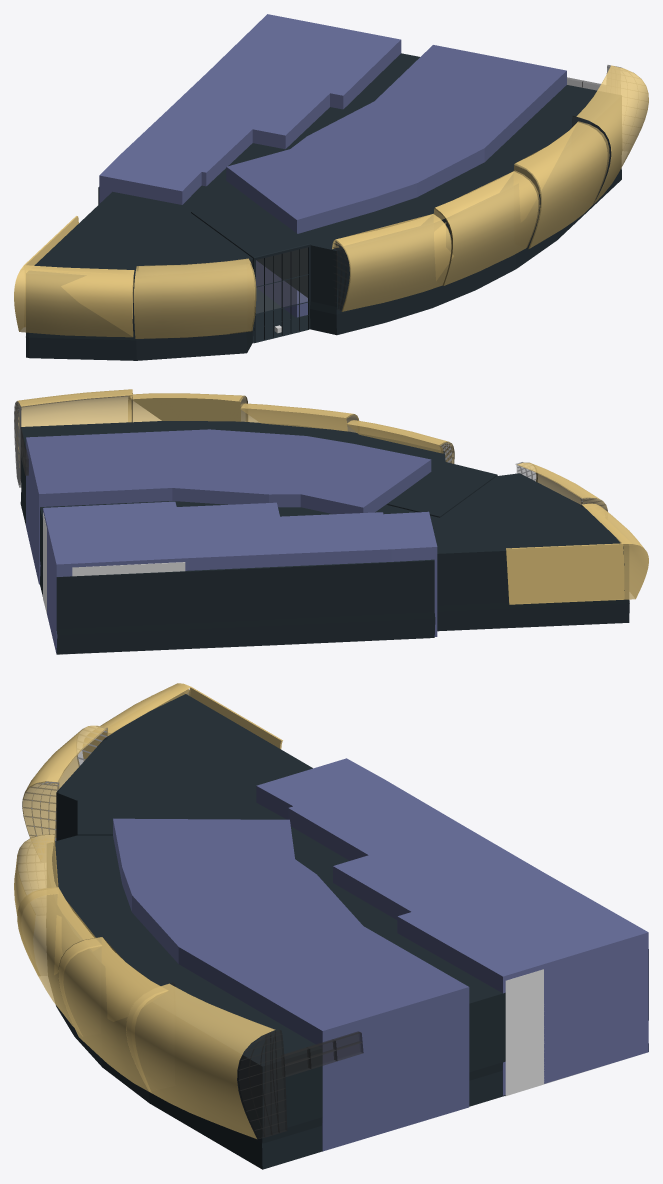
File: ashford-cinema-1.glb
The picture shows the model from 3 angles, top to bottom: view 1: azimuth 30°, elevation 25°; view 2: azimuth 150°, elevation 25°; view 3: azimuth 270°, elevation 25°; orthographic projection. The views are drawn at different scales.
Parts seen in each view (by area): view 1: Plane.002, Plane.001, Plane, BézierCurve, BézierCurve.001, BézierCurve.002, BézierCurve.003, BézierCurve.004, entrance, BézierCurve.005; view 2: Plane.002, Plane.001, Plane, BézierCurve.001, BézierCurve.005, BézierCurve.004, entrance, BézierCurve.003, BézierCurve.002, entrance.001, BézierCurve; view 3: Plane.002, Plane.001, Plane, BézierCurve.005, BézierCurve.004, BézierCurve.003, entrance.001, BézierCurve, entrance, BézierCurve.001, BézierCurve.002.
Part boxes in pixels (x1=…): Plane.002: x1=26, y1=53, x2=621, y2=360; Plane.001: x1=226, y1=45, x2=566, y2=317; Plane: x1=99, y1=14, x2=401, y2=204; BézierCurve: x1=134, y1=258, x2=256, y2=338; BézierCurve.001: x1=14, y1=216, x2=134, y2=337; BézierCurve.002: x1=332, y1=214, x2=451, y2=311; BézierCurve.003: x1=433, y1=170, x2=539, y2=285; BézierCurve.004: x1=513, y1=121, x2=609, y2=248; entrance: x1=191, y1=198, x2=310, y2=343; BézierCurve.005: x1=567, y1=65, x2=648, y2=204; Plane.002: x1=20, y1=421, x2=629, y2=654; Plane.001: x1=26, y1=429, x2=431, y2=584; Plane: x1=43, y1=501, x2=437, y2=653; BézierCurve.001: x1=506, y1=503, x2=648, y2=604; BézierCurve.005: x1=14, y1=389, x2=132, y2=487; BézierCurve.004: x1=128, y1=393, x2=247, y2=422; entrance: x1=387, y1=462, x2=497, y2=517; BézierCurve.003: x1=240, y1=403, x2=359, y2=432; BézierCurve.002: x1=347, y1=420, x2=454, y2=463; entrance.001: x1=43, y1=513, x2=185, y2=654; BézierCurve: x1=515, y1=462, x2=607, y2=511; Plane.002: x1=47, y1=693, x2=648, y2=1169; Plane.001: x1=113, y1=818, x2=469, y2=1151; Plane: x1=256, y1=758, x2=648, y2=1095; BézierCurve.005: x1=126, y1=982, x2=363, y2=1139; BézierCurve.004: x1=58, y1=937, x2=167, y2=1091; BézierCurve.003: x1=17, y1=887, x2=101, y2=1026; entrance.001: x1=505, y1=969, x2=608, y2=1096; BézierCurve: x1=22, y1=725, x2=107, y2=841; entrance: x1=77, y1=800, x2=231, y2=835; BézierCurve.001: x1=82, y1=683, x2=282, y2=760; BézierCurve.002: x1=14, y1=834, x2=58, y2=915.
Size of what is drawn, in the model's own units: 109 by 17.53 by 73.64.
